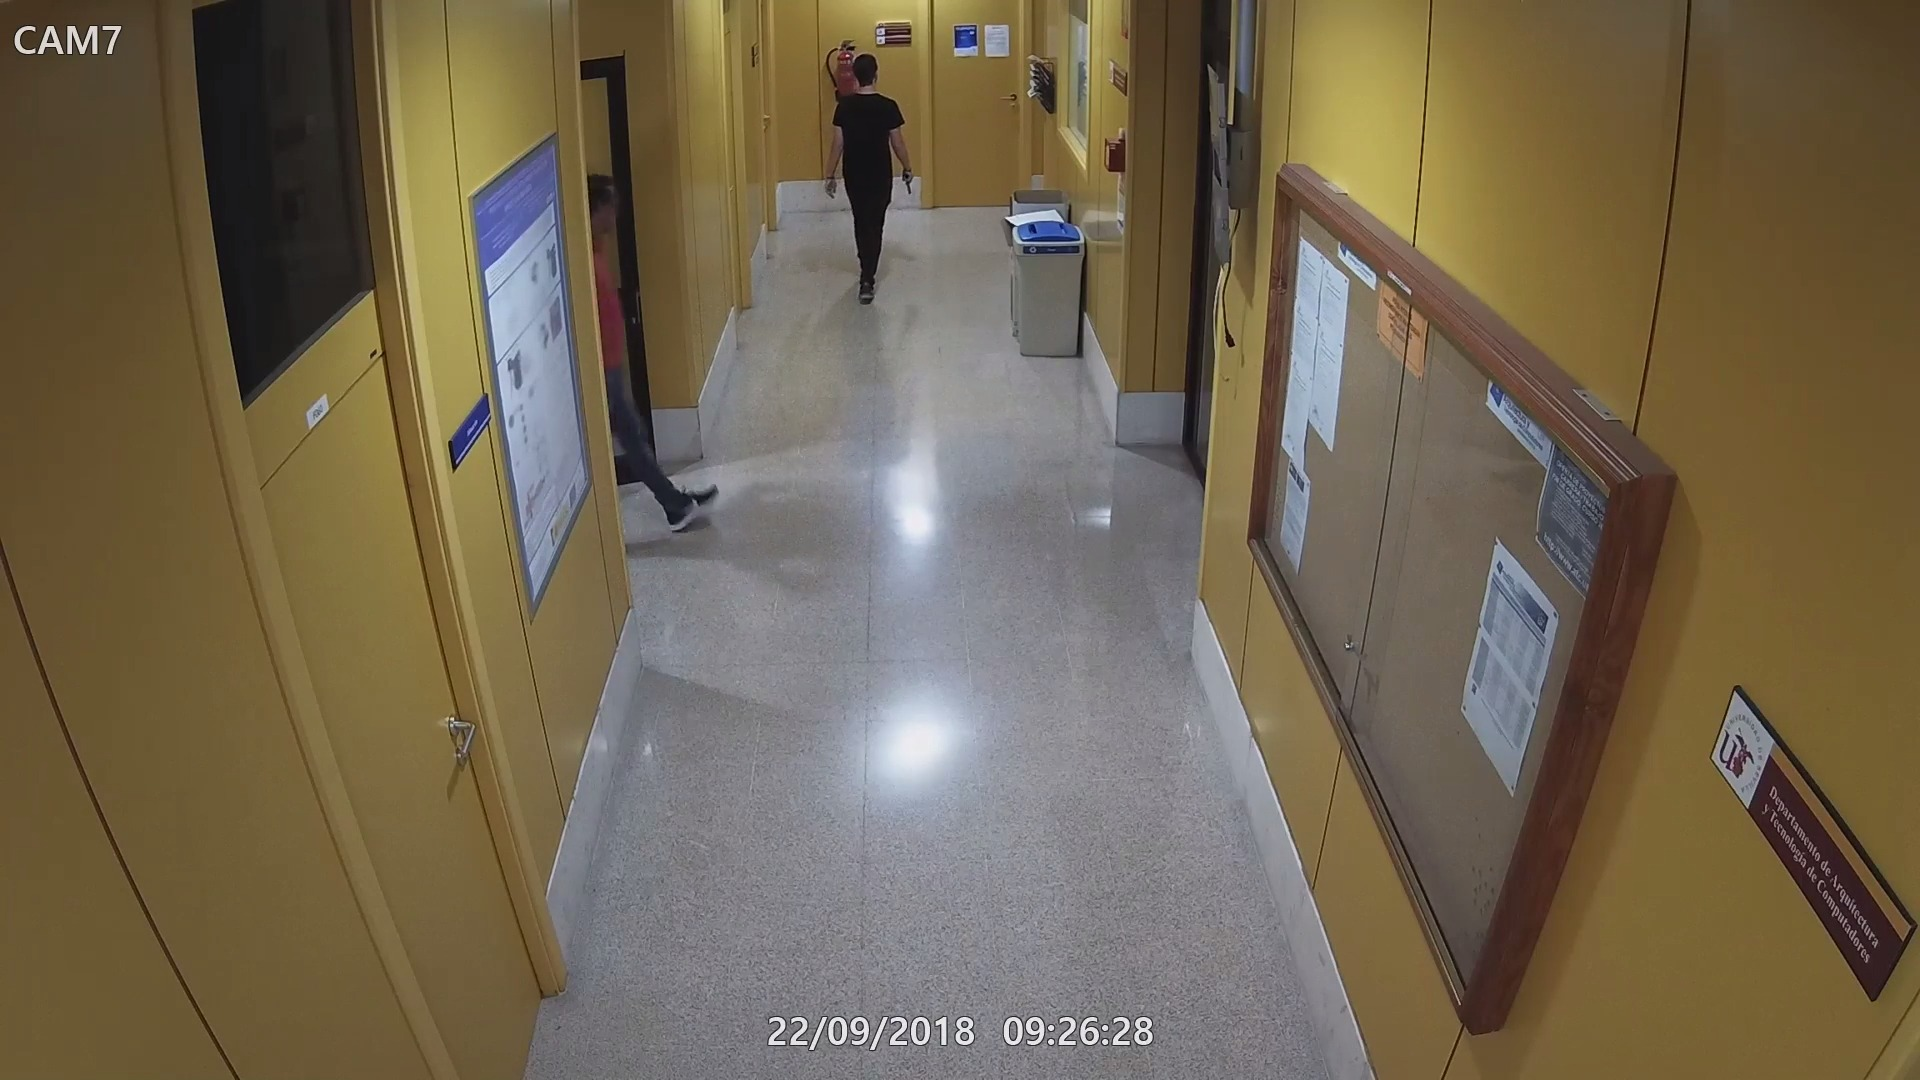Handgun: (894, 165, 920, 194)
